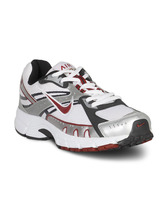shoes: (13, 57, 157, 152)
